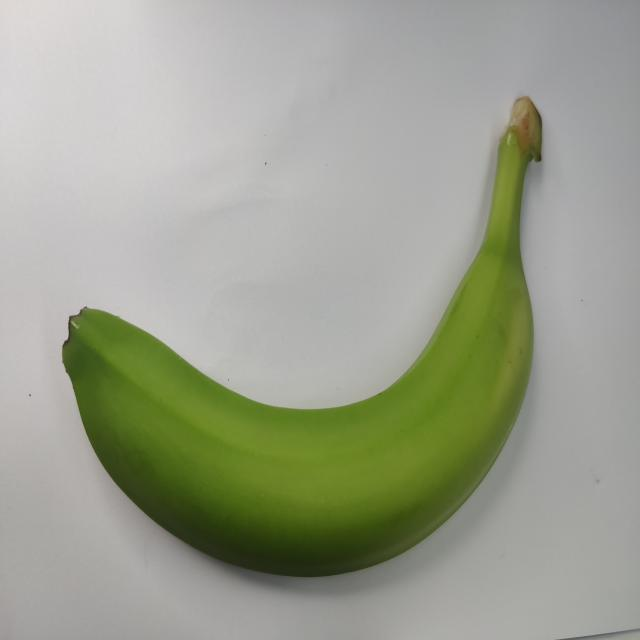raw: (17, 88, 576, 589)
